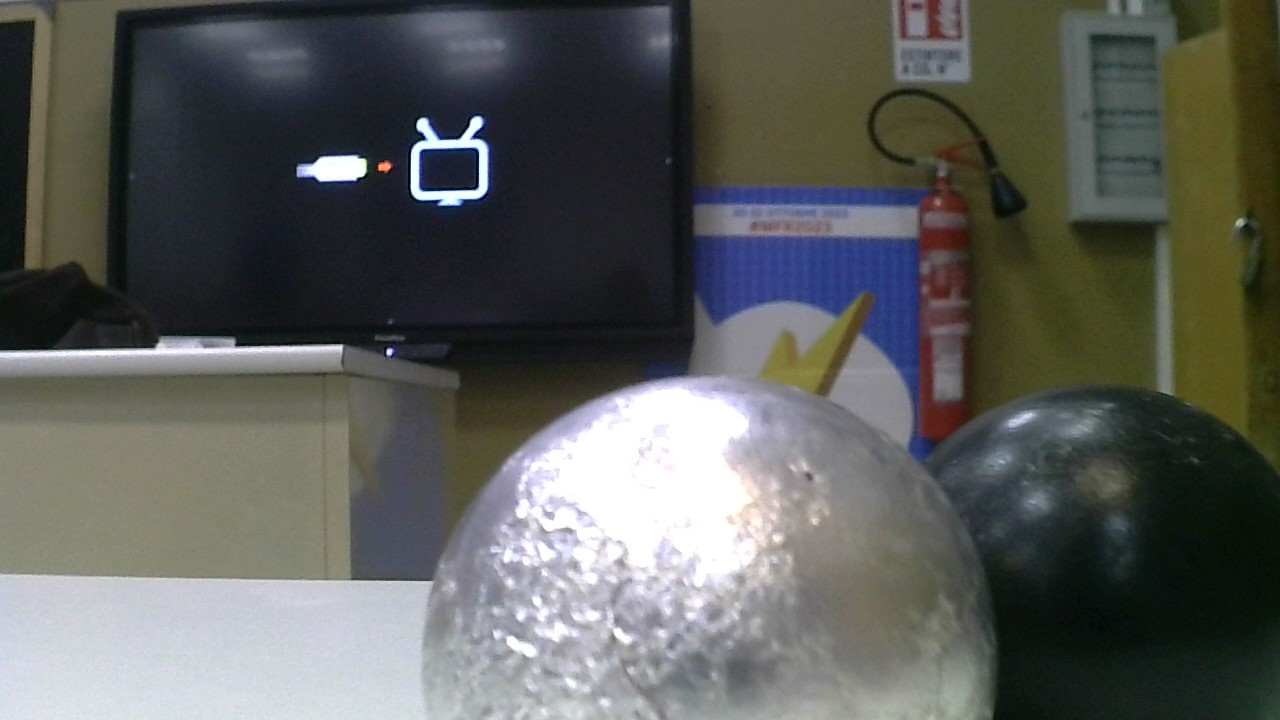black_ball: (936, 364, 1275, 720)
silver_ball: (419, 329, 992, 720)
